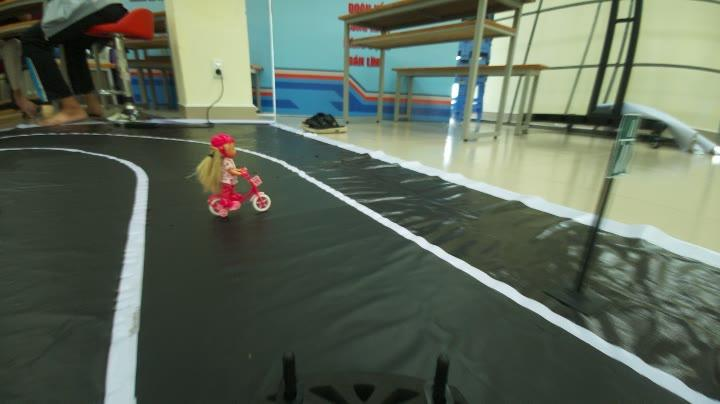highway_entry: (606, 109, 650, 182)
pedestrian: (185, 130, 291, 219)
